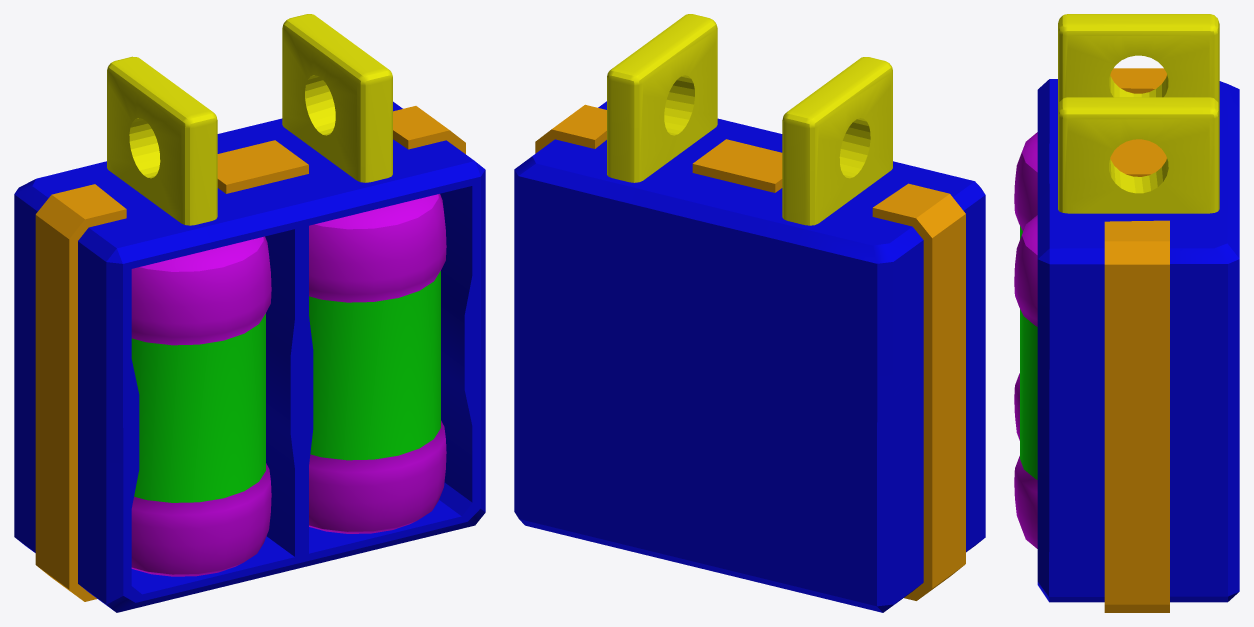
File: AmmoPickUpModel.fbx
The picture shows the model from 3 angles, left to right: view 1: azimuth 30°, elevation 25°; view 2: azimuth 150°, elevation 25°; view 3: azimuth 270°, elevation 25°; orthographic projection. The views are drawn at different scales.
Parts seen in each view (by area): view 1: pCube1, pCylinder1; view 2: pCube1; view 3: pCube1, pCylinder1.
Boxes of the visible parts, x1=… form: pCube1: x1=14, y1=14, x2=485, y2=612; pCylinder1: x1=131, y1=194, x2=446, y2=576; pCube1: x1=514, y1=14, x2=985, y2=612; pCube1: x1=1037, y1=14, x2=1239, y2=612; pCylinder1: x1=1014, y1=132, x2=1037, y2=548.
Bounding box in the file's own units: 2.28 × 2.63 × 1.15.
